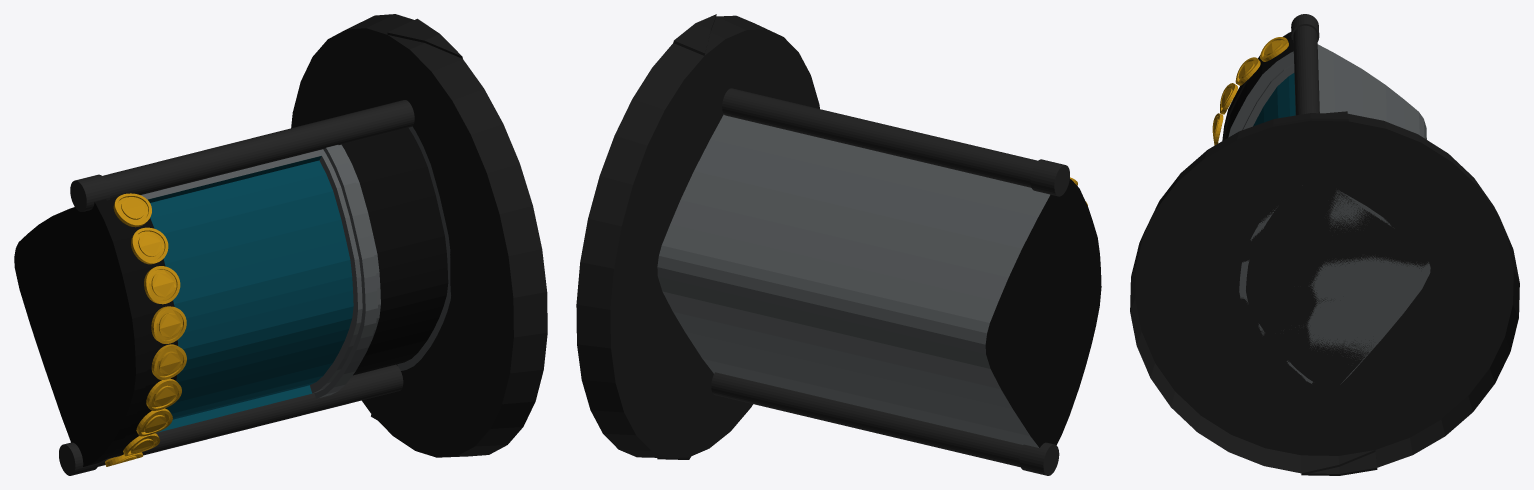
The model's file is NinjaSniperBase.obj.
The picture shows the model from 3 angles, left to right: view 1: azimuth 30°, elevation 25°; view 2: azimuth 150°, elevation 25°; view 3: azimuth 270°, elevation 25°; orthographic projection. The views are drawn at different scales.
Visible parts, largest first — view 1: Struct.001, Base, Guide_Poles, Circle; view 2: Struct.001, Base, Guide_Poles; view 3: Base, Struct.001, Guide_Poles, Circle.
Part boxes in pixels (x1,y1,x2,y2): Struct.001: (14,126,450,466); Base: (291,14,547,457); Guide_Poles: (59,100,414,475); Circle: (105,193,186,466); Struct.001: (657,114,1101,447); Base: (576,14,819,459); Guide_Poles: (711,88,1069,475); Base: (1130,111,1519,475); Struct.001: (1222,32,1430,384); Guide_Poles: (1291,14,1319,115); Circle: (1212,37,1288,145).
Size of the model in its own units: 1.87 by 2.02 by 1.99.
